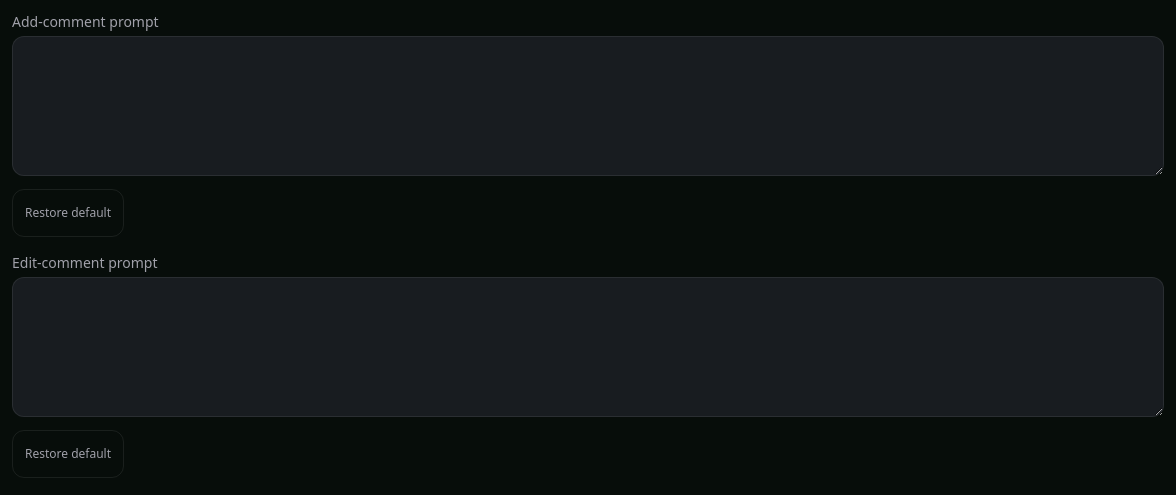
Scenario: PromptsEditor › restore default loads the Rust default and saves it
The width and height of the screenshot is (1176, 495).
Step 1. Click the button with test id "restore-edit-comment" → (68, 454), box [12,430,124,478]
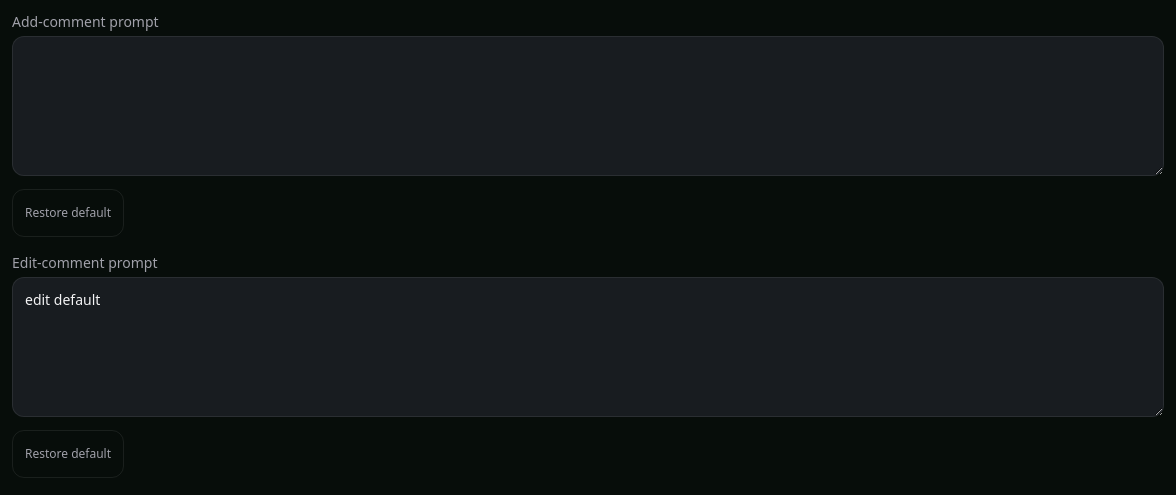
Check: the text box with test id "prompt-edit-comment" holds "edit default", box [12,277,1164,417]
